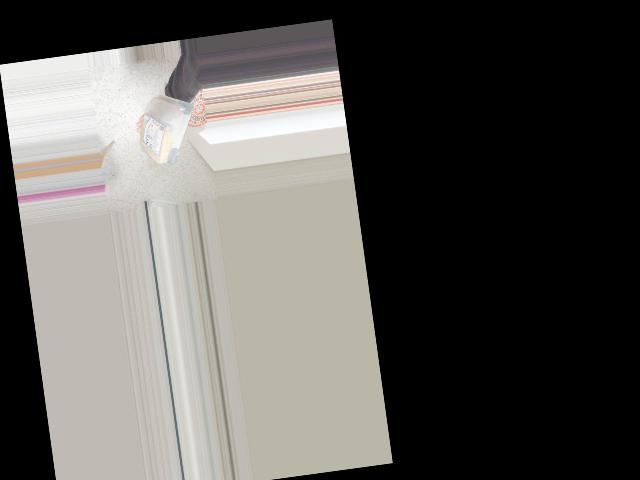cheese: (130, 79, 200, 171)
